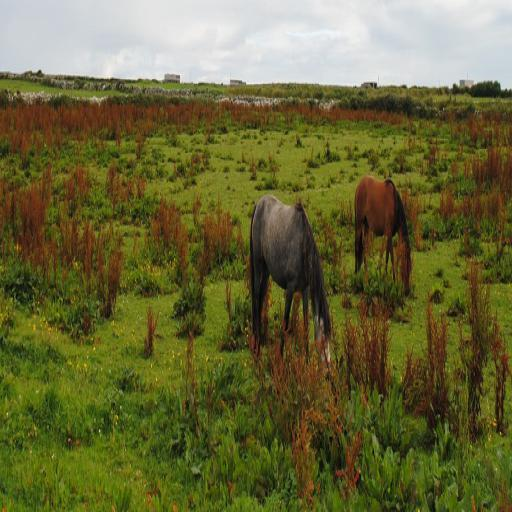Horse: (248, 193, 332, 365), (354, 180, 414, 300)
